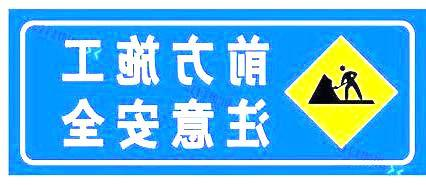sign: (18, 18, 418, 170)
